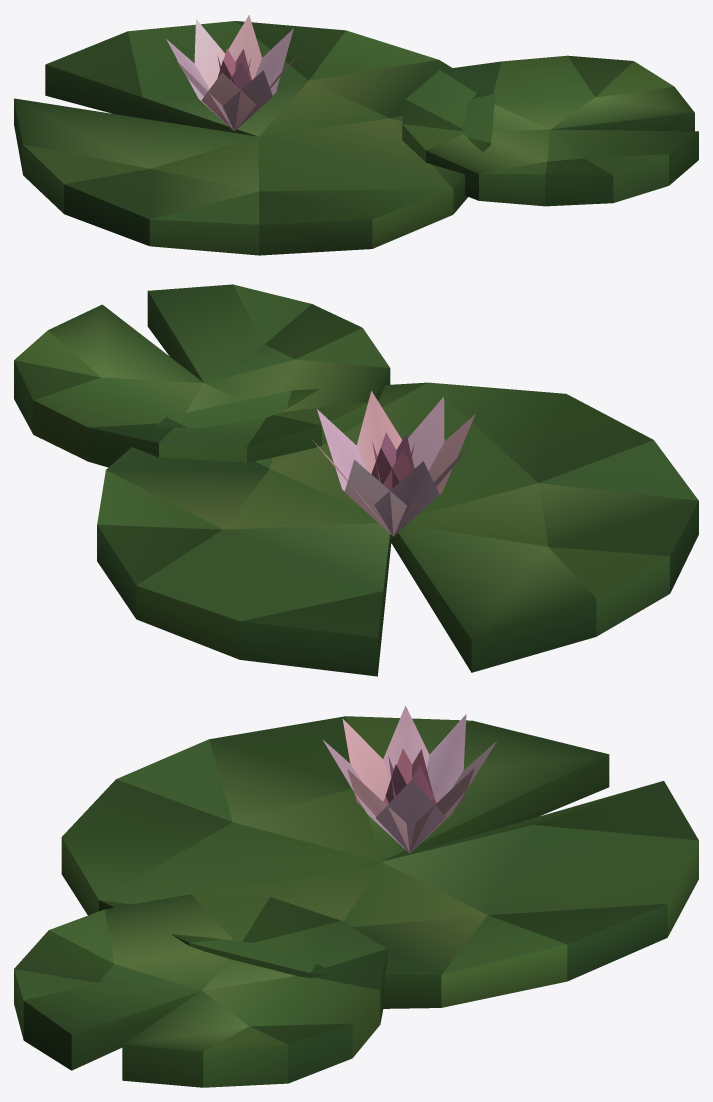
Rendered from lily-pad-2.low.glb.
3 renders of one model, top to bottom at view 1: azimuth 30°, elevation 25°; view 2: azimuth 150°, elevation 25°; view 3: azimuth 270°, elevation 25°, orthographic. The views are drawn at different scales.
Parts seen in each view (by area): view 1: lily-pad-2; view 2: lily-pad-2; view 3: lily-pad-2.
Part boxes in pixels (x1,y1,x2,y2): lily-pad-2: (14,15,698,255); lily-pad-2: (14,284,698,676); lily-pad-2: (14,705,698,1087).
Bounding box in the file's own units: 0.8537 × 0.1541 × 0.7253.
